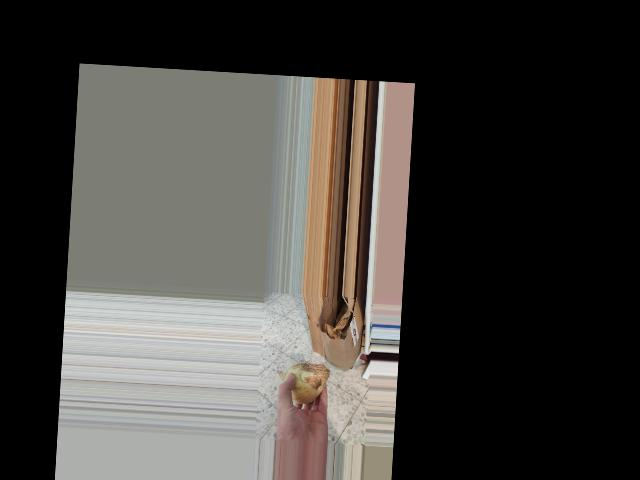onion: (279, 356, 331, 409)
